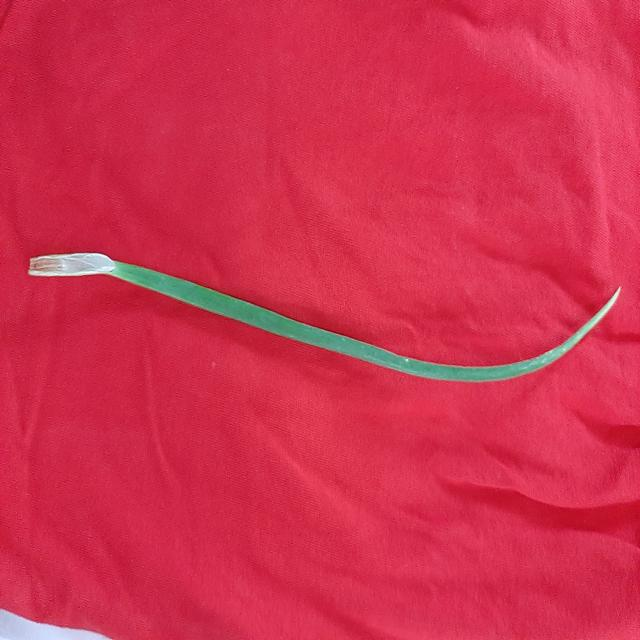onion: (29, 252, 620, 382)
